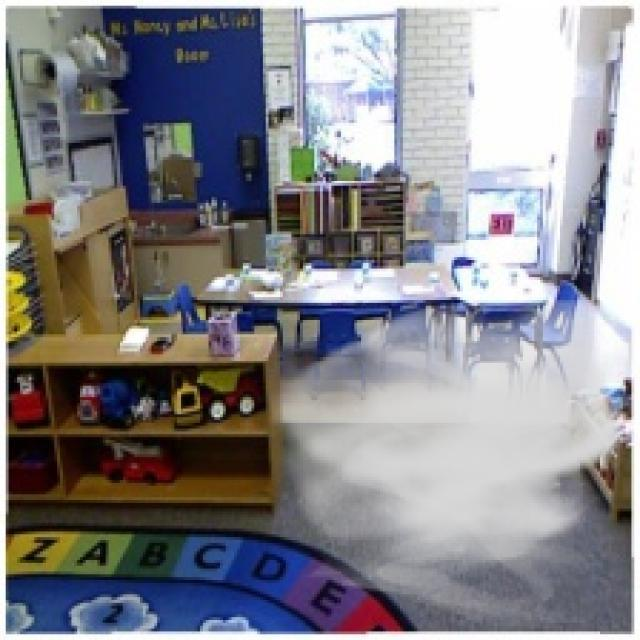Smoke: (266, 288, 626, 632)
